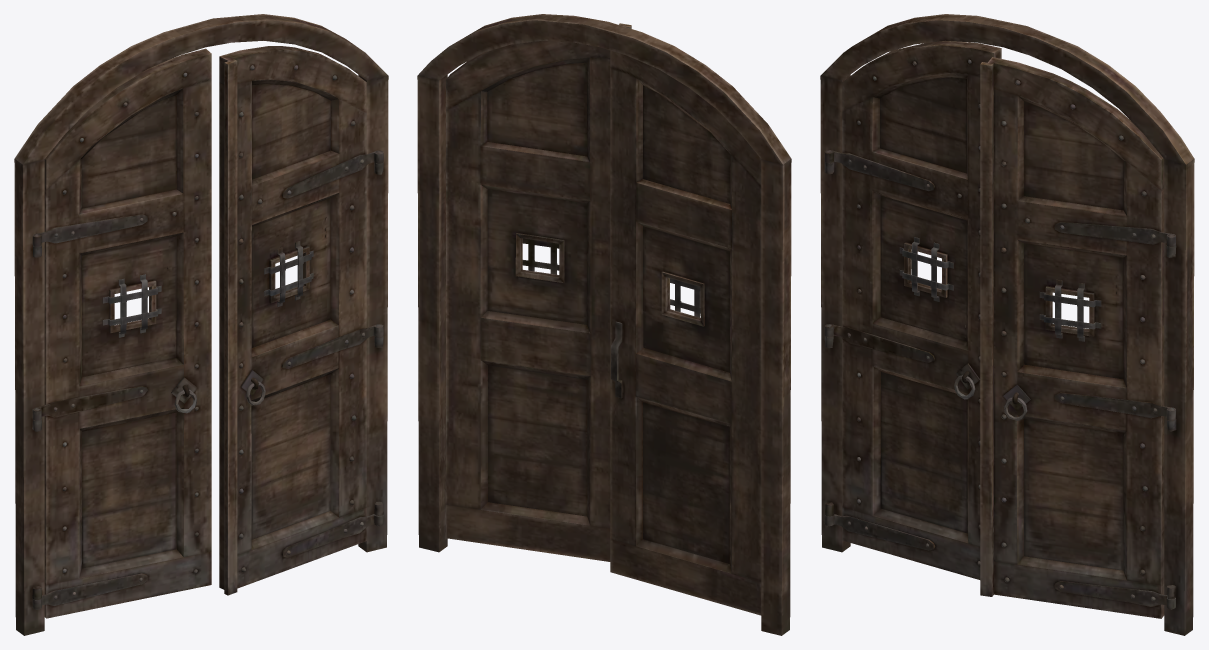
Rendered from castle_door.glb.
3 views of the same model, side by side, from view 1: azimuth 30°, elevation 25°; view 2: azimuth 150°, elevation 25°; view 3: azimuth 330°, elevation 25° (orthographic).
Visible parts, largest first — view 1: large_castle_door_left, large_castle_door_right, large_castle_door_frame; view 2: large_castle_door_right, large_castle_door_left, large_castle_door_frame; view 3: large_castle_door_right, large_castle_door_left, large_castle_door_frame.
Part boxes in pixels (box(x1,y1,x2,y2)): large_castle_door_left: box(32, 48, 211, 618); large_castle_door_right: box(219, 46, 383, 595); large_castle_door_frame: box(14, 14, 388, 635); large_castle_door_right: box(446, 23, 631, 561); large_castle_door_left: box(610, 50, 761, 615); large_castle_door_frame: box(417, 14, 791, 635); large_castle_door_right: box(980, 57, 1175, 618); large_castle_door_left: box(824, 41, 1001, 579); large_castle_door_frame: box(820, 14, 1194, 635).
Bounding box in the file's own units: 2.01 × 2.96 × 0.2963.
Materials: 1 (1 with a texture image).
